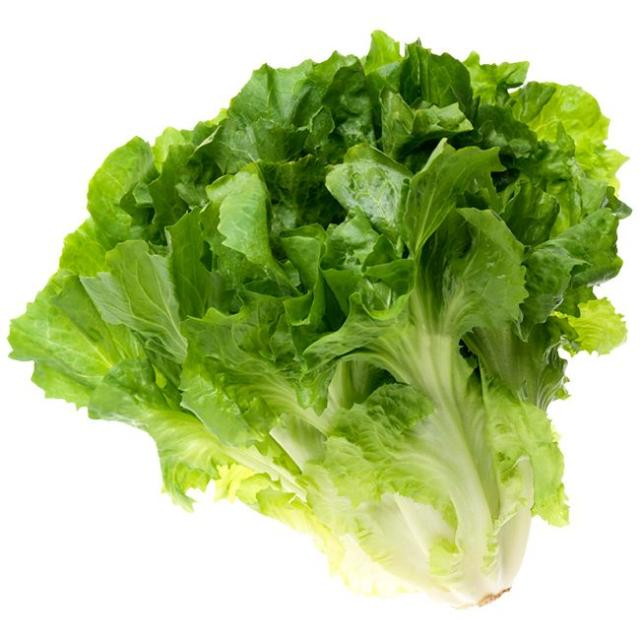lettuce: (10, 32, 629, 604)
